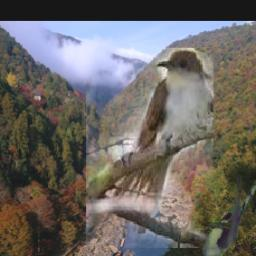Cuckoo: (86, 49, 214, 249), (203, 177, 256, 256)
